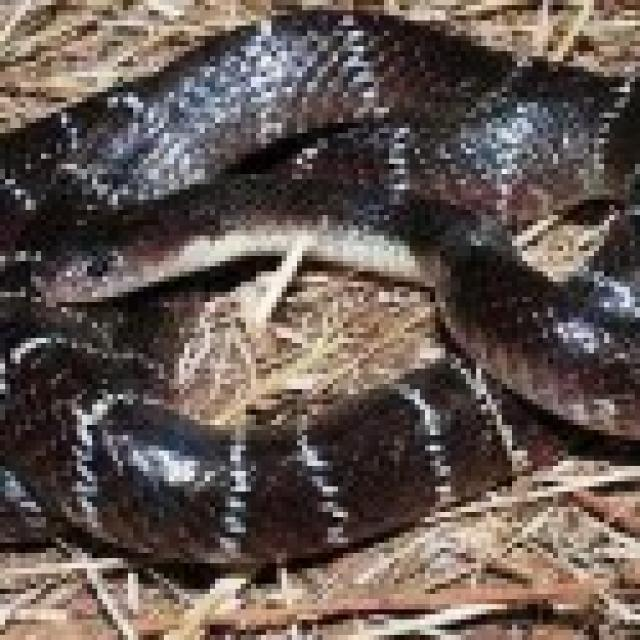Snake: (0, 15, 635, 567)
